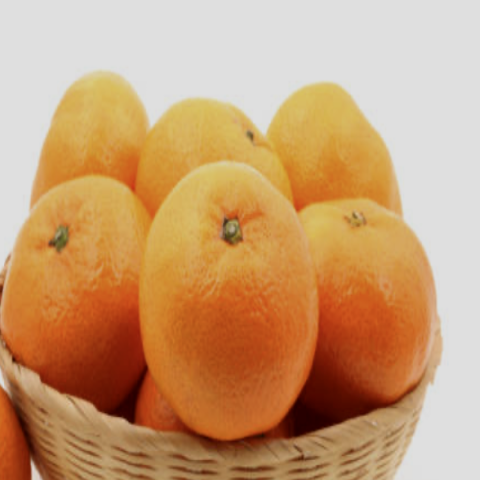orange: (134, 152, 330, 439), (267, 181, 474, 414), (3, 154, 160, 440)
